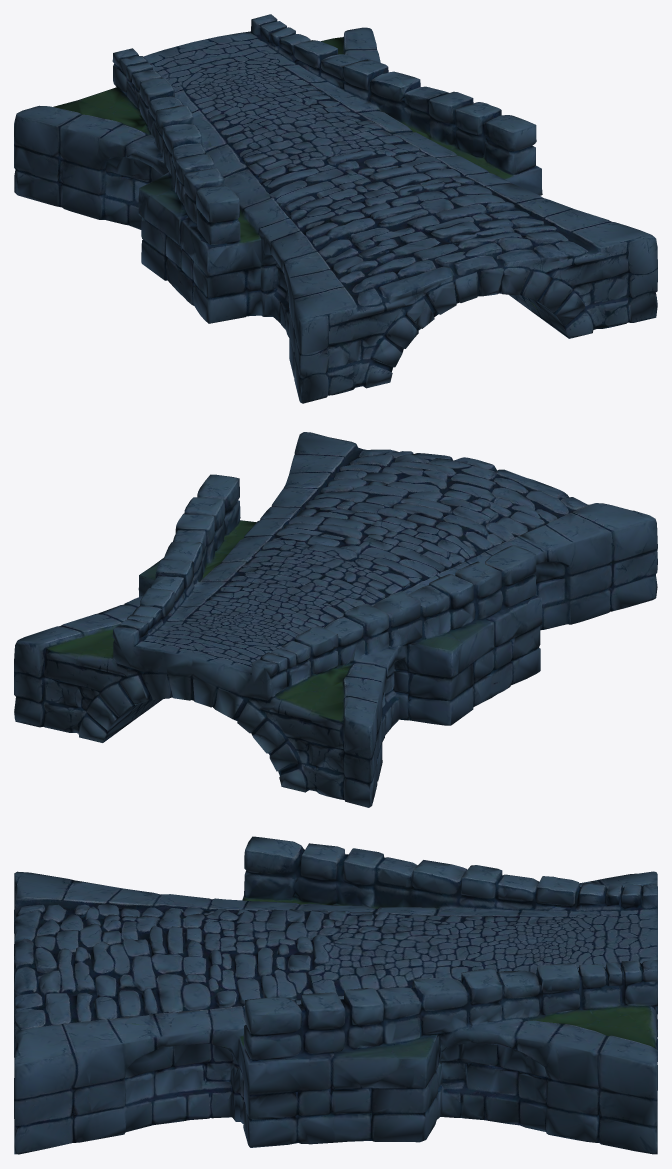
The model's file is causeway-segment.glb.
3 views of the same model, one above another, from view 1: azimuth 30°, elevation 25°; view 2: azimuth 150°, elevation 25°; view 3: azimuth 270°, elevation 25° (orthographic). The views are drawn at different scales.
Size of the model in its own units: 1.36 by 0.4364 by 1.9.
1 material, 1 textured.
